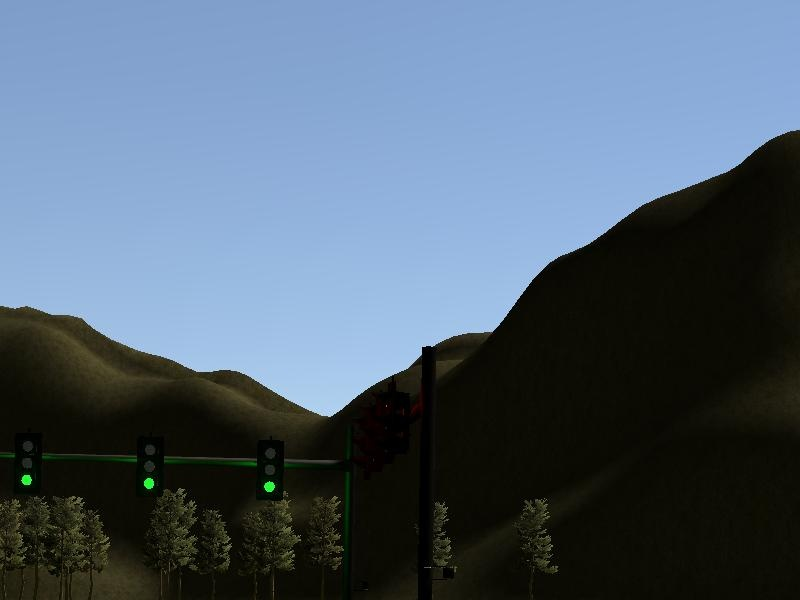Green: (13, 432, 43, 497), (135, 435, 165, 499), (255, 439, 284, 502)
